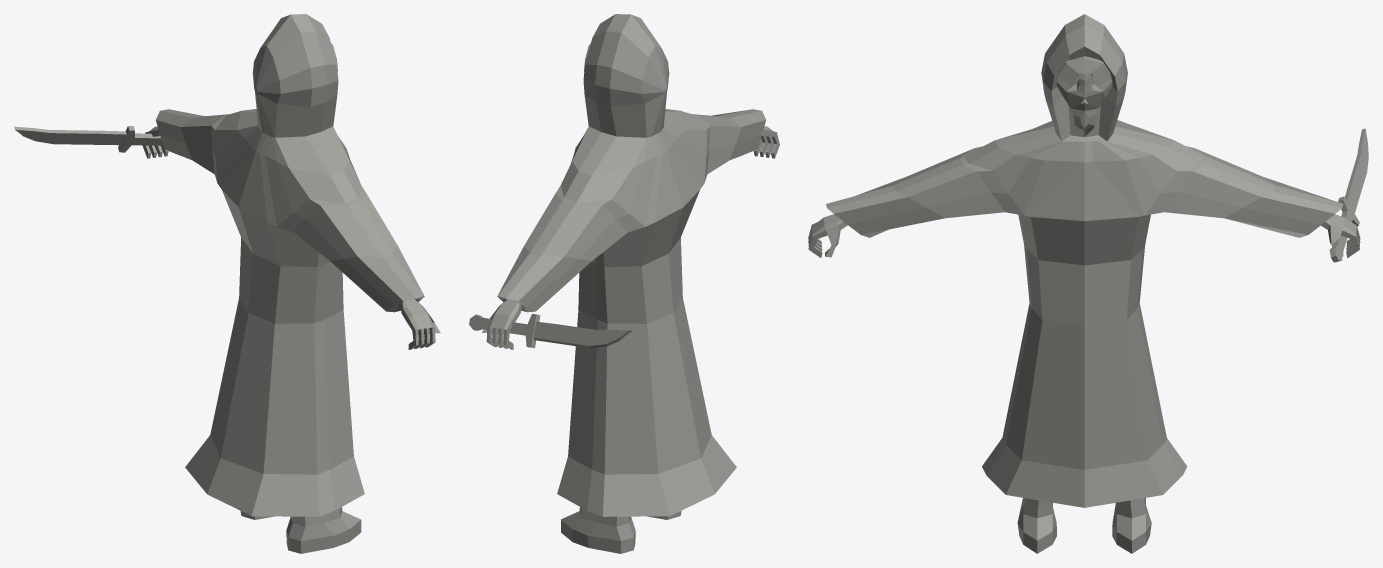
The model's file is gostFaceFbx.fbx.
3 views of the same model, side by side, from view 1: azimuth 30°, elevation 25°; view 2: azimuth 150°, elevation 25°; view 3: azimuth 270°, elevation 25° (orthographic).
Parts seen in each view (by area): view 1: Cube; view 2: Cube; view 3: Cube.
Boxes of the visible parts, x1,y1,x2,y2 form: Cube: [14, 14, 440, 553]; Cube: [469, 14, 779, 553]; Cube: [808, 14, 1368, 553].
Size of the model in its own units: 600 by 1469 by 1444.
1 material, 1 textured.
